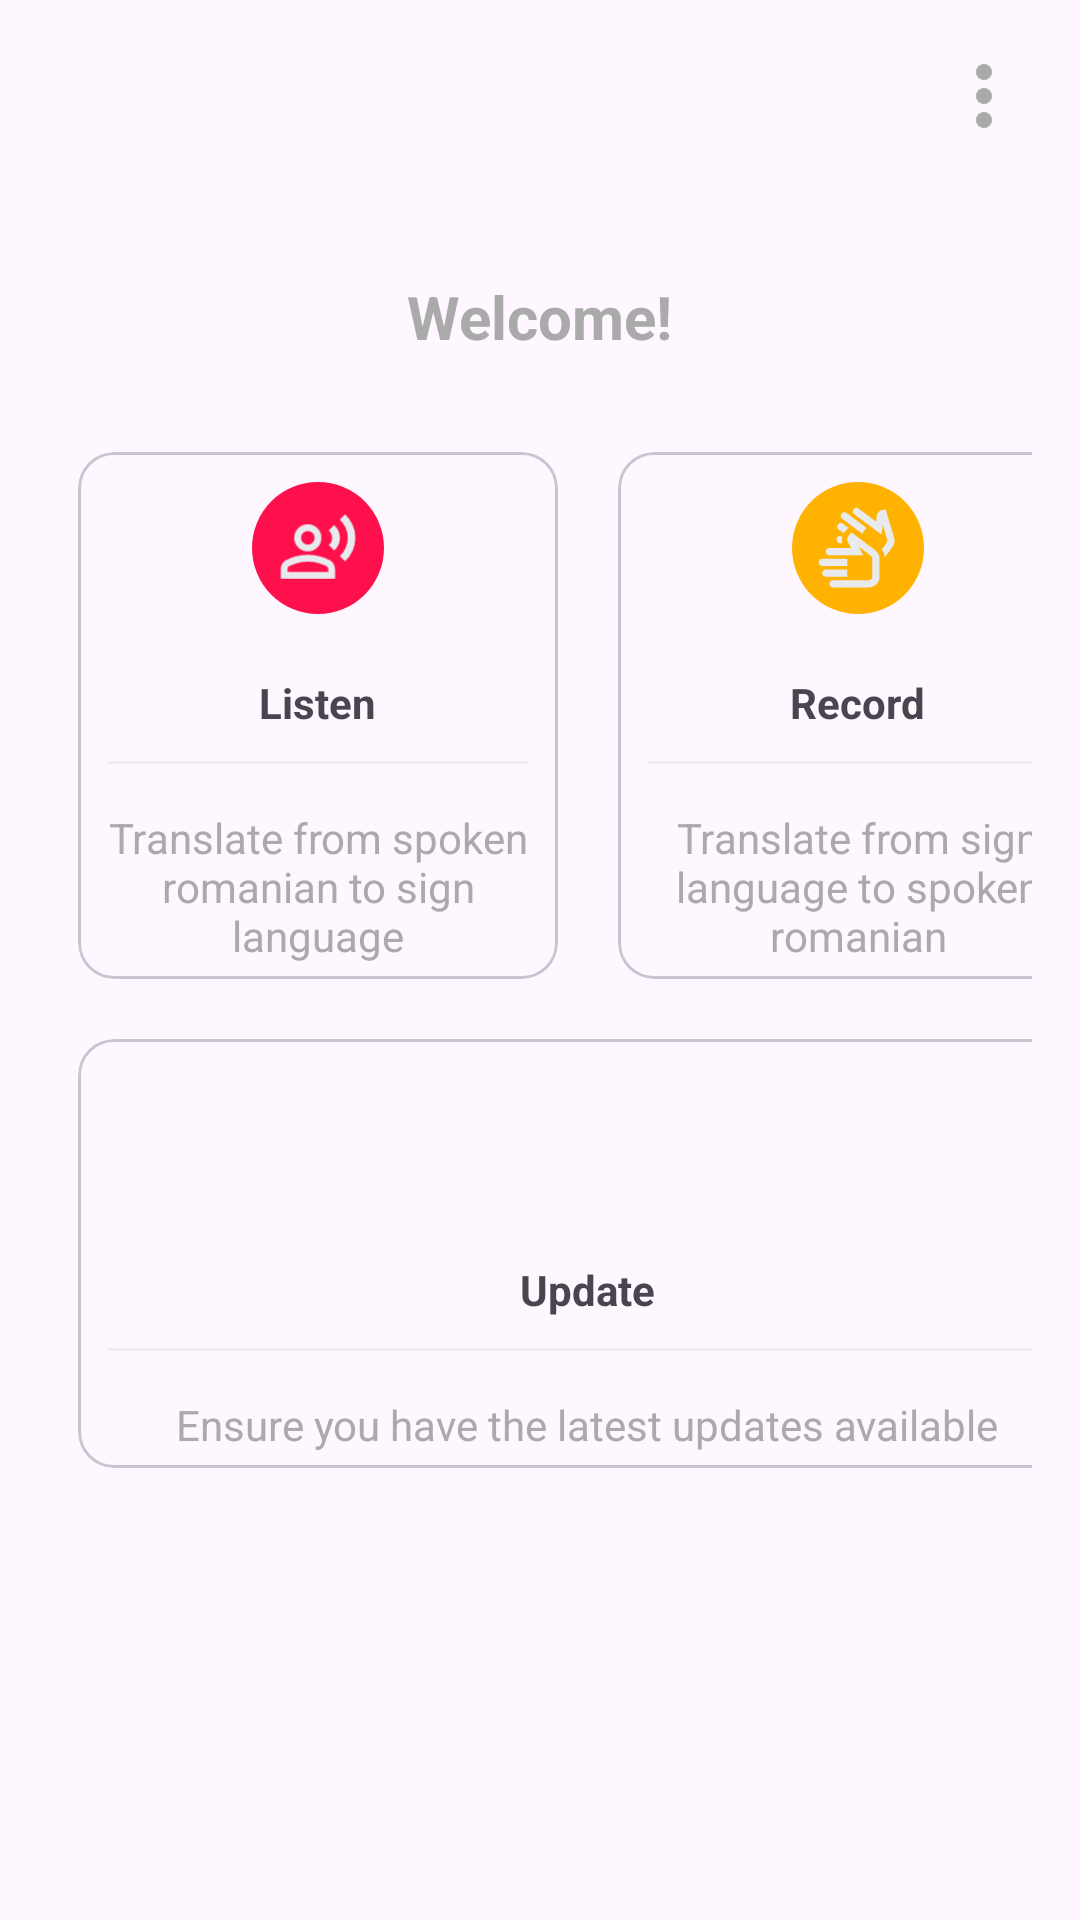

Icons on this 1080px×1920px Android screen, each with its box as (x1, y1, x2, y2):
more vert: (976, 64, 992, 128)
person speaking: (252, 482, 384, 614)
